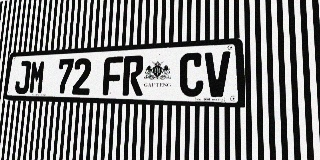2: (72, 58, 92, 95)
7: (55, 59, 74, 95)
C: (179, 52, 204, 97)
F: (102, 56, 123, 95)
J: (14, 61, 31, 94)
M: (28, 60, 46, 94)
R: (122, 55, 144, 96)
V: (204, 51, 231, 97)
